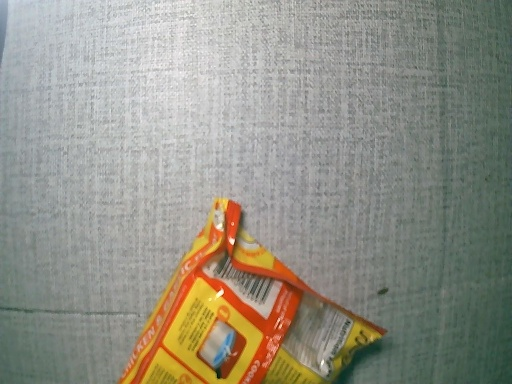plastic: (106, 199, 388, 384)
